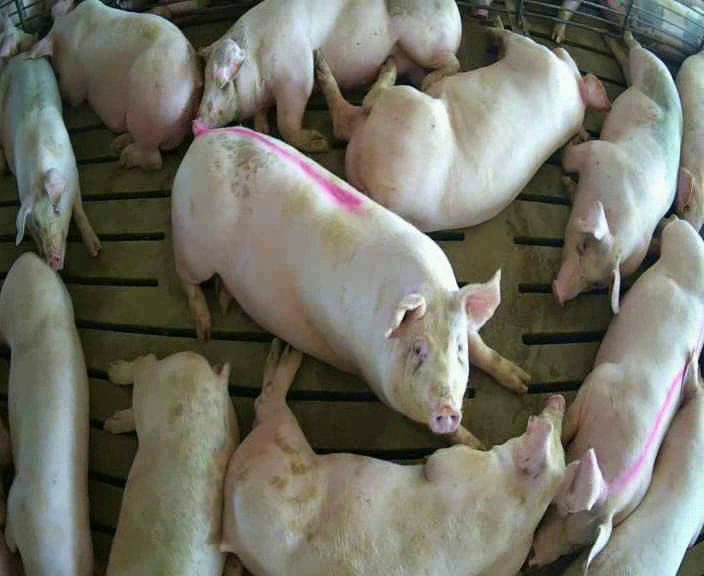pig: (172, 127, 529, 446), (226, 341, 564, 574), (531, 215, 703, 564), (315, 30, 608, 231), (194, 2, 460, 151), (553, 32, 681, 312), (0, 252, 92, 574), (106, 352, 238, 574), (32, 1, 201, 167), (0, 54, 100, 269), (676, 50, 703, 229)
